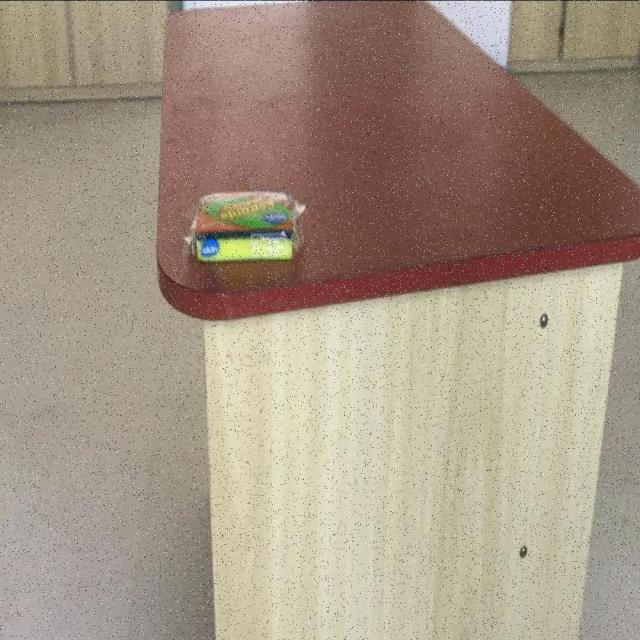Sponge: (182, 191, 304, 264), (197, 192, 296, 231), (186, 233, 293, 264)
